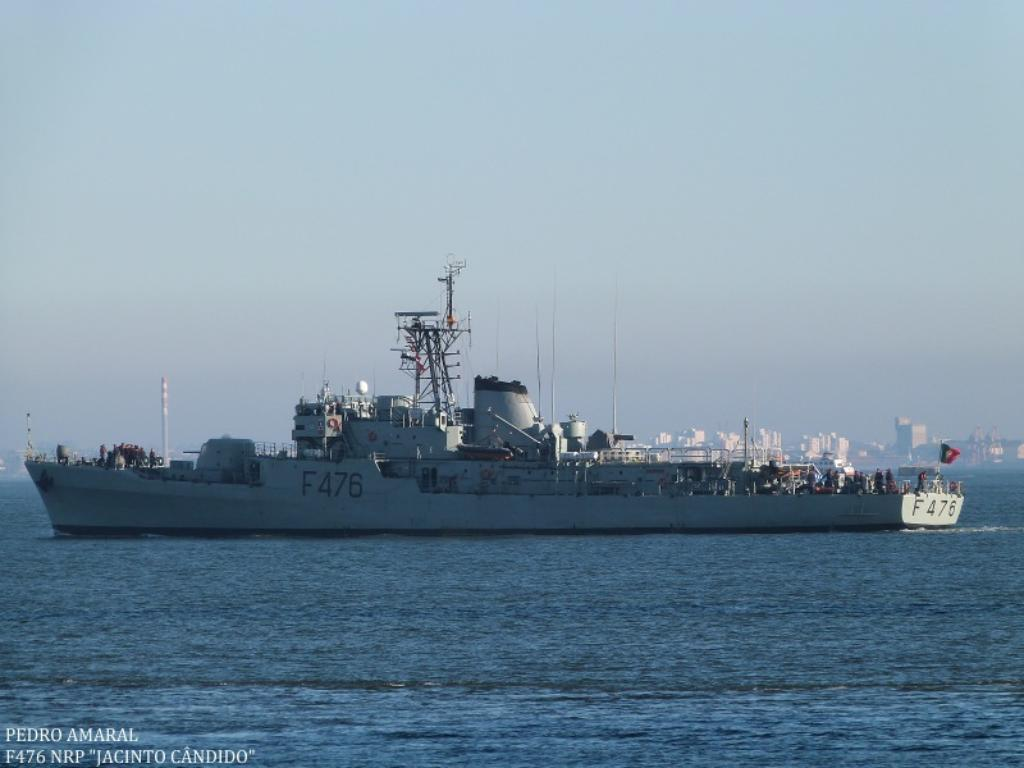Warship: (20, 249, 970, 539)
